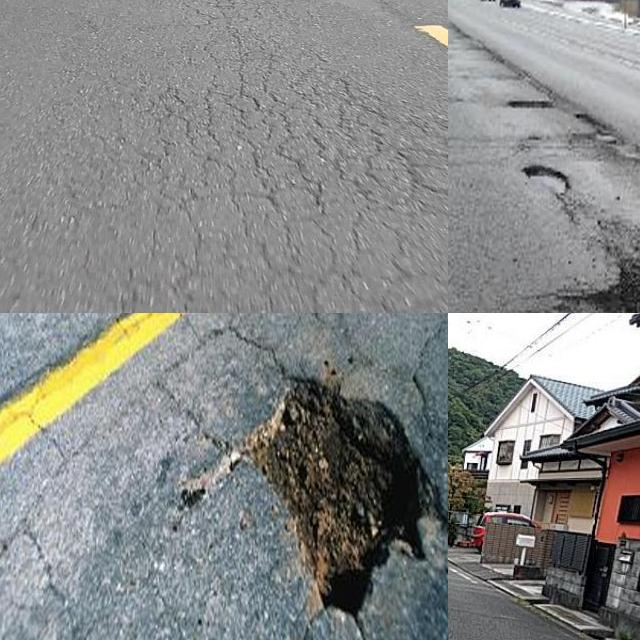Lubang: (248, 382, 448, 619), (522, 164, 568, 191)
Retak Buaya: (91, 39, 448, 313)
